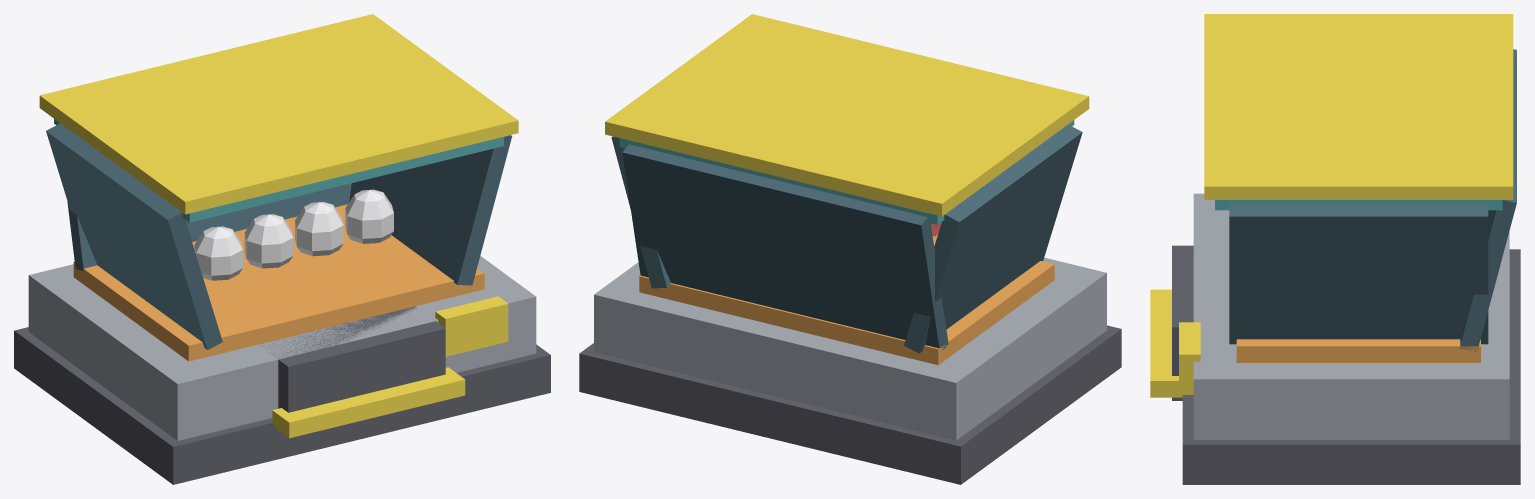
The model's file is hatchery.glb.
The picture shows the model from 3 angles, left to right: view 1: azimuth 30°, elevation 25°; view 2: azimuth 150°, elevation 25°; view 3: azimuth 270°, elevation 25°; orthographic projection. The views are drawn at different scales.
Visible parts, largest first — view 1: hatchery; view 2: hatchery; view 3: hatchery.
Boxes of the visible parts, x1,y1,x2,y2 form: hatchery: (14, 14, 550, 484); hatchery: (579, 14, 1121, 484); hatchery: (1150, 14, 1520, 484).
Bounding box in the file's own units: 1.25 × 0.855 × 1.
